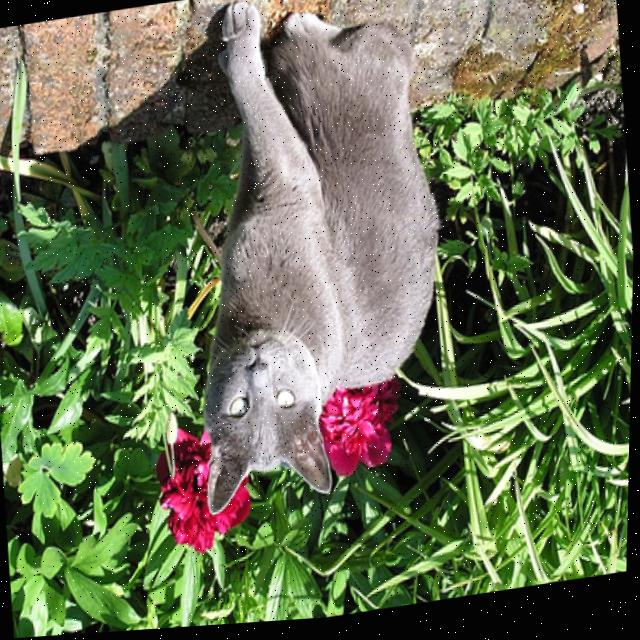Russian Blue: (162, 0, 465, 527)
